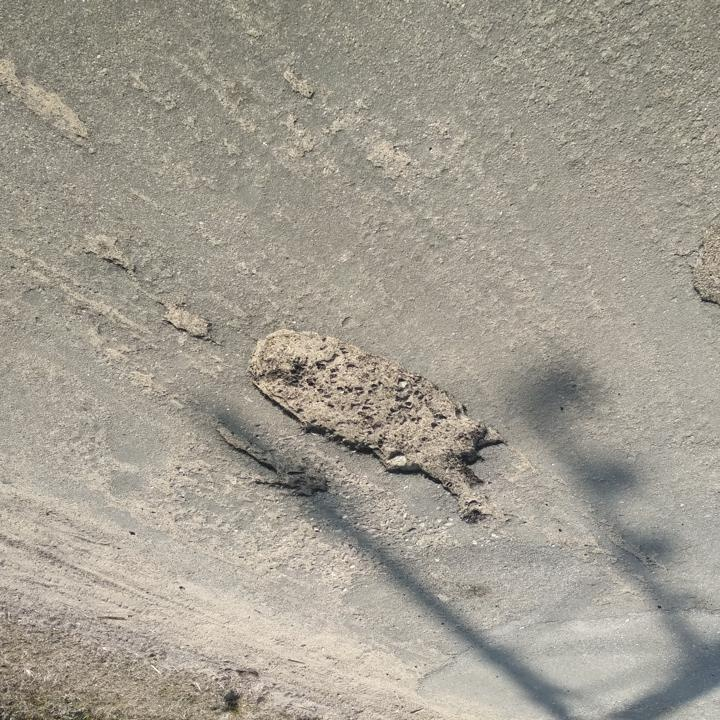pothole: (249, 322, 508, 529), (0, 57, 102, 158), (211, 418, 332, 501), (686, 220, 719, 310), (155, 301, 221, 345)
